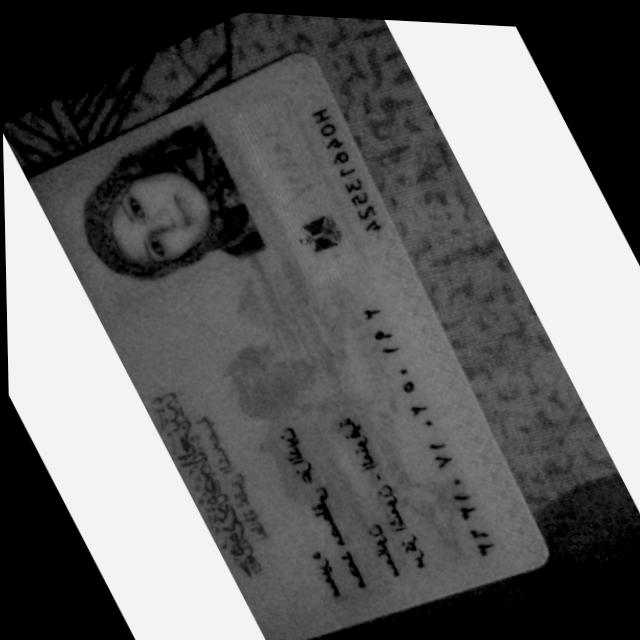id_card: (26, 54, 546, 640)
